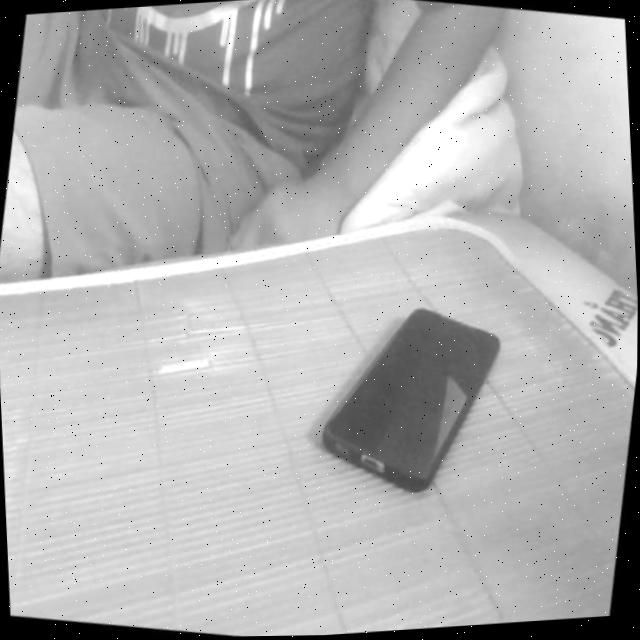phone: (285, 274, 531, 531)
